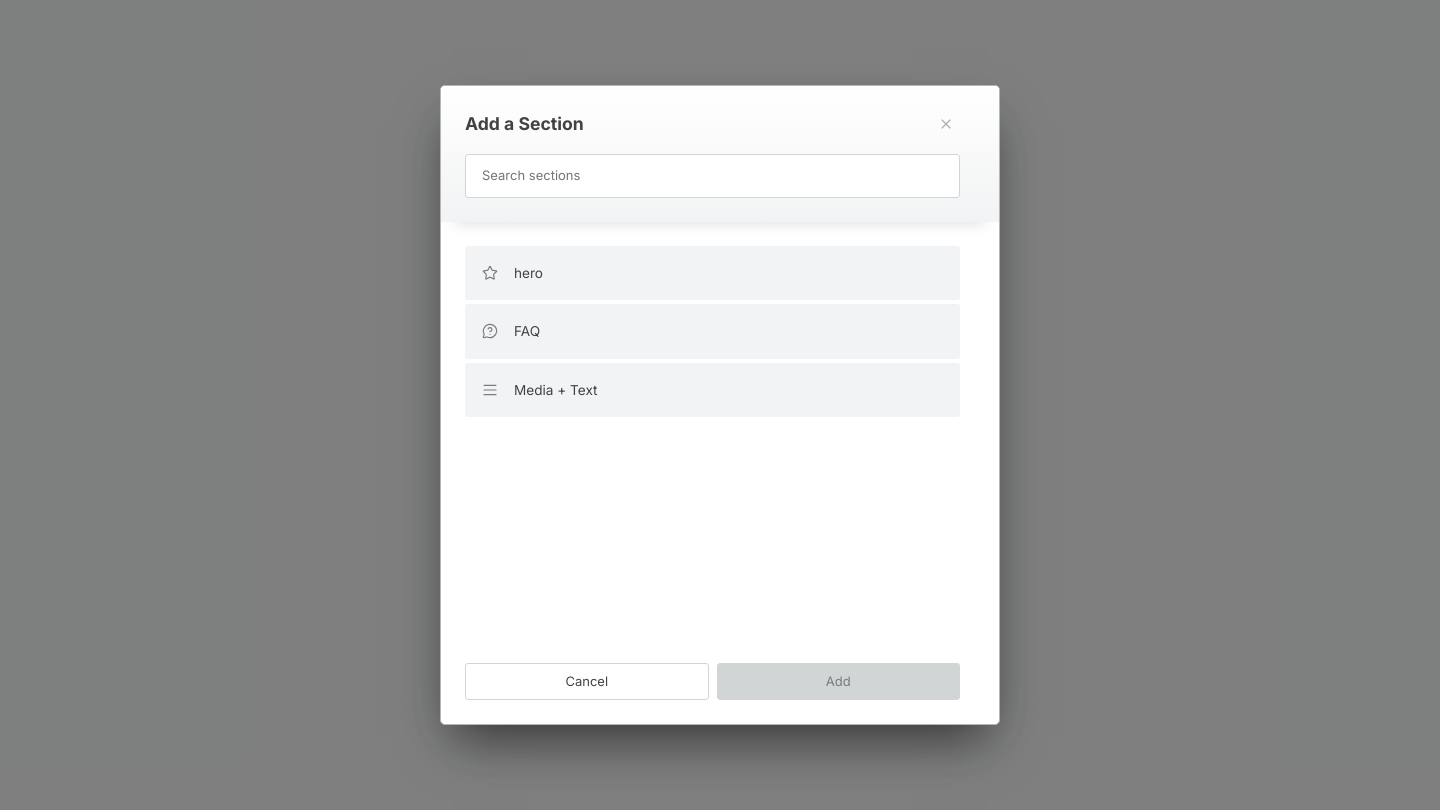
Test: AddSectionModal › a selection filtered out of view stops counting, so Add cannot insert something unseen
Click the button "FAQ".
click(490, 331)  # box left=465, top=304, right=960, bottom=359
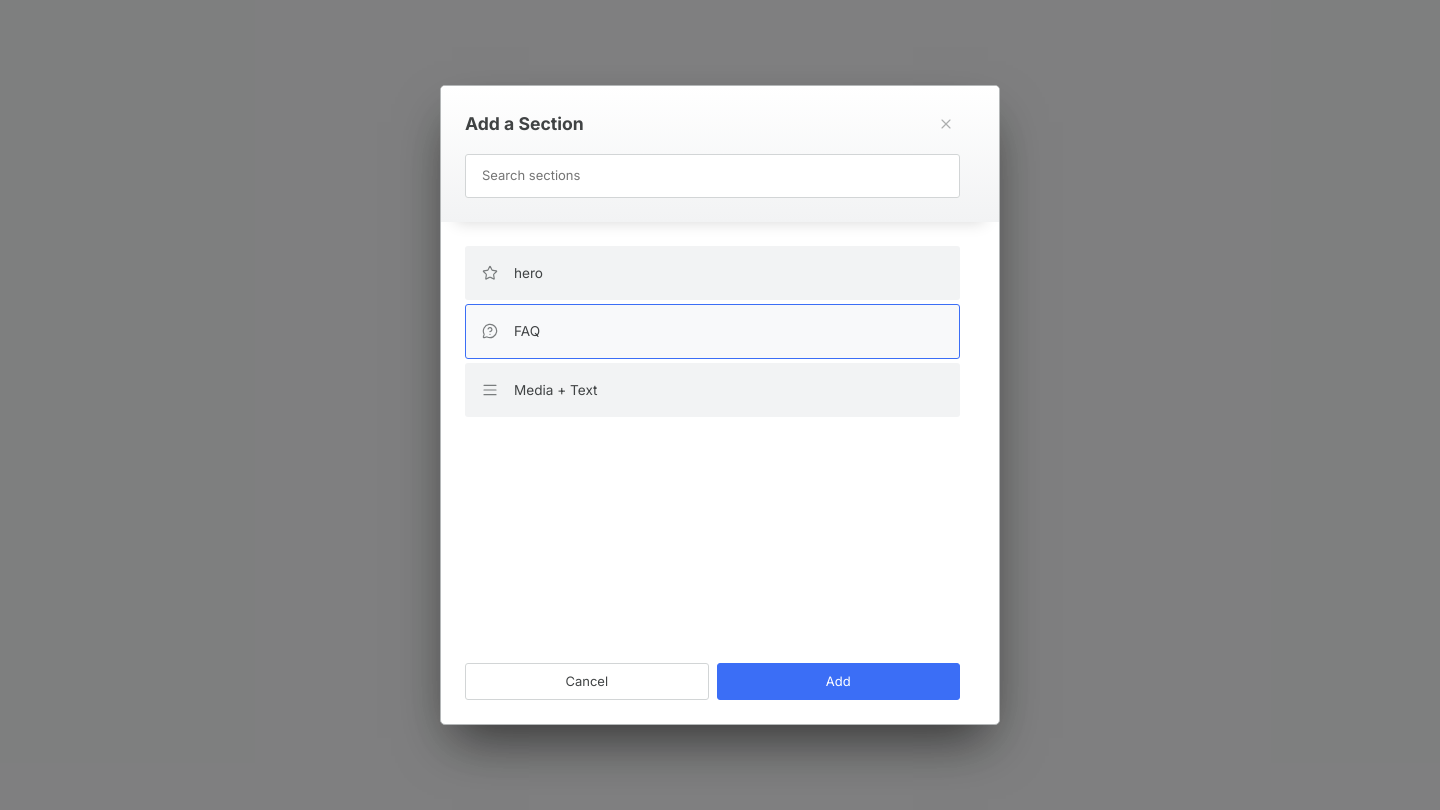
Type "media" into the search field with placeholder "Search sections".
click(712, 176); type("media")  # box left=465, top=154, right=960, bottom=198
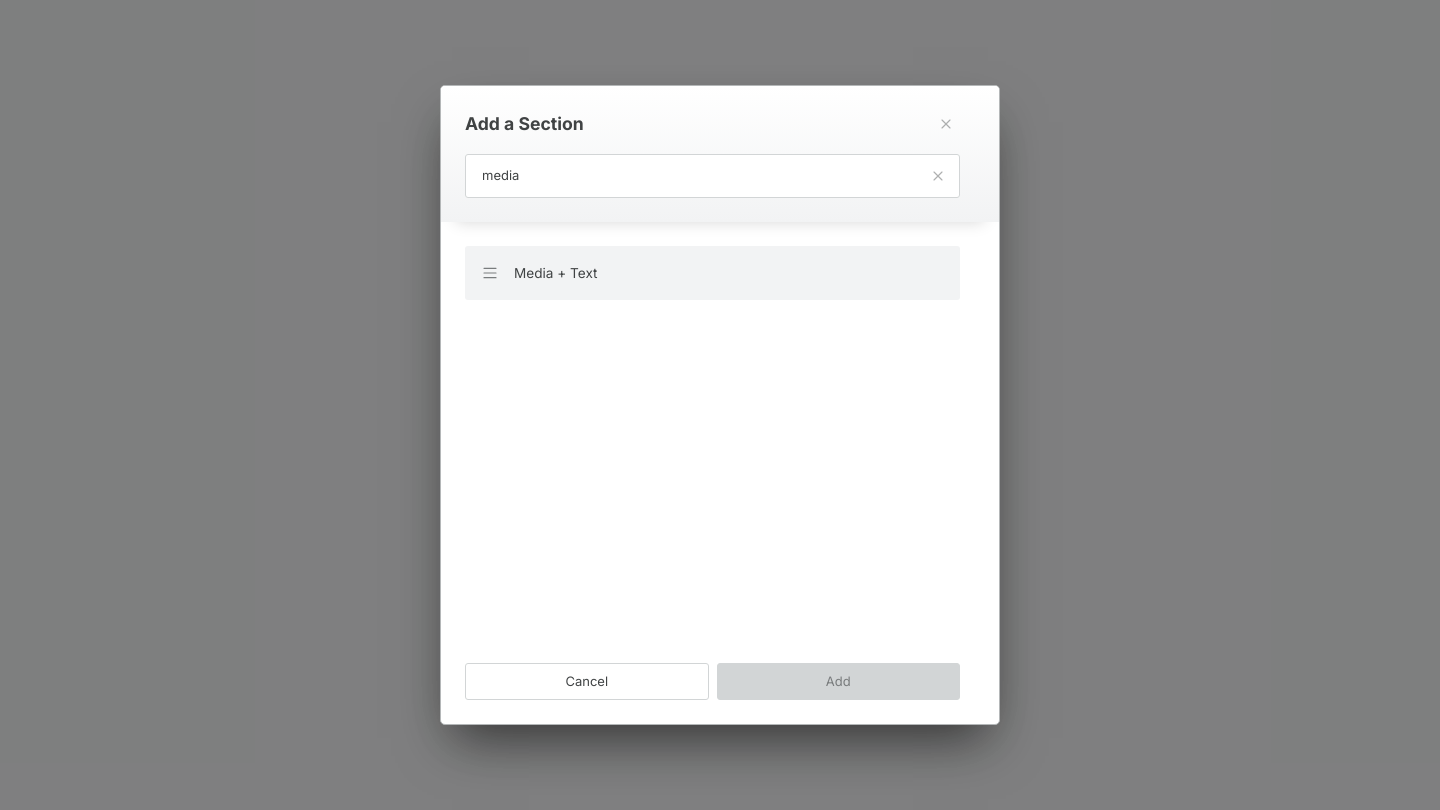
Now the button "Add" is disabled, box left=716, top=662, right=960, bottom=700
# Clearing the query brings the row, and its selection, back.
Clear the search field with placeholder "Search sections" at (712, 176), box left=465, top=154, right=960, bottom=198
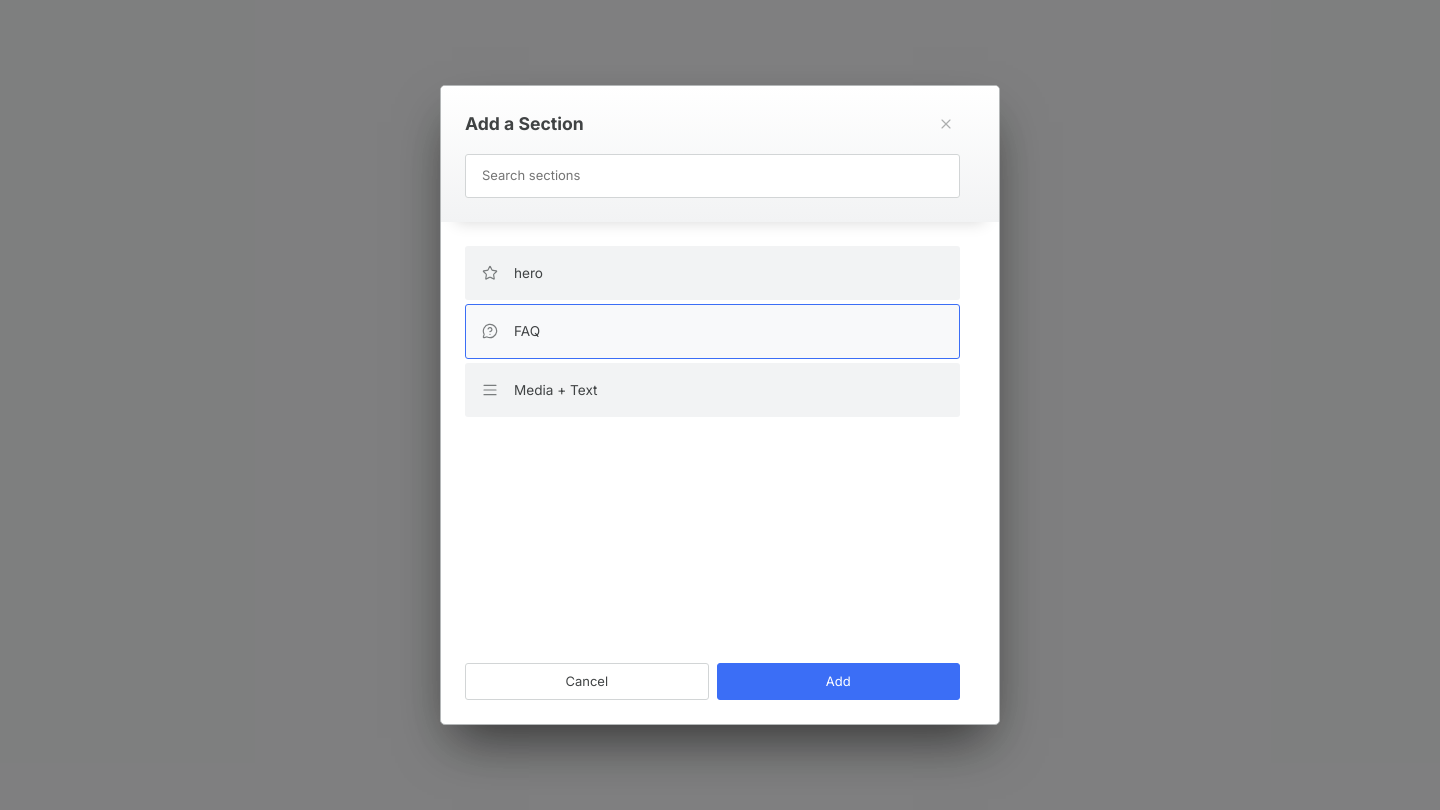
Now the button "Add" is enabled, box left=716, top=662, right=960, bottom=700
